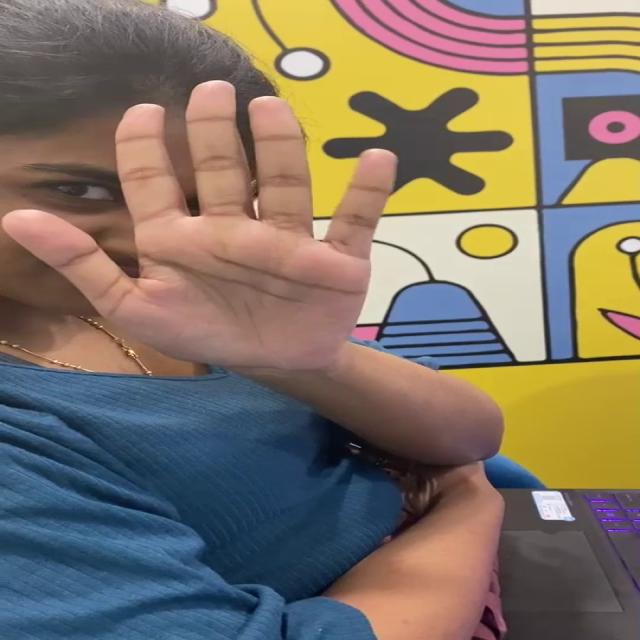no-gloves: (0, 67, 414, 398)
